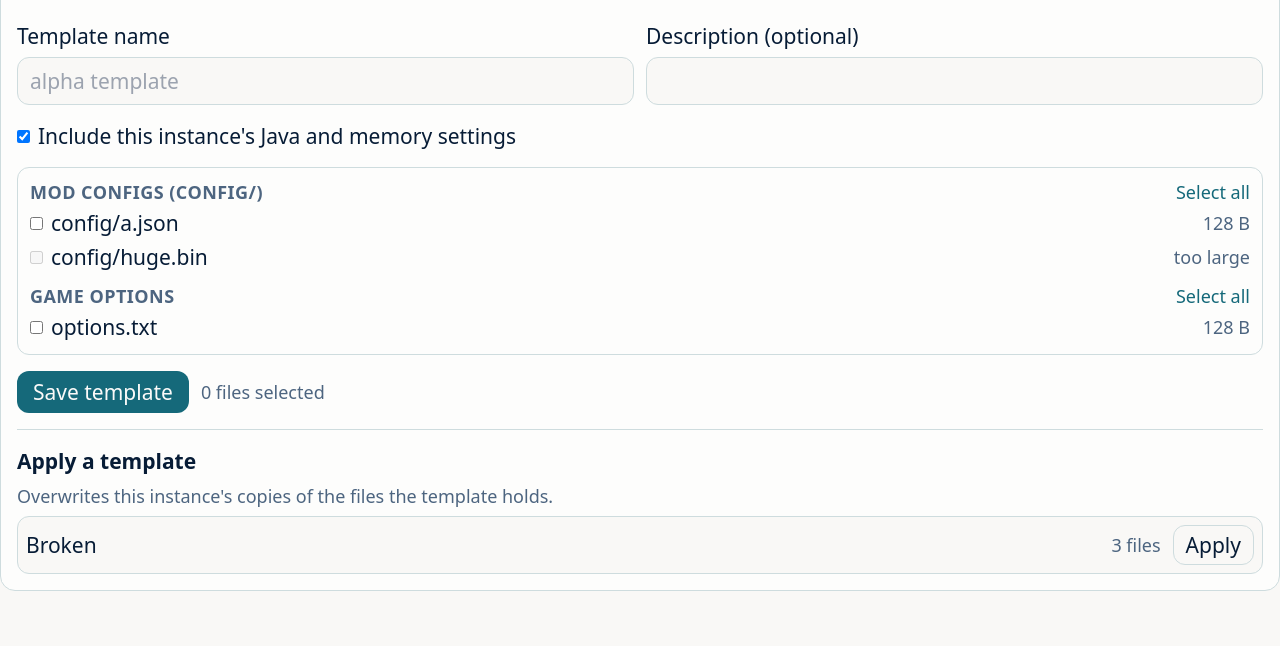
Scenario: InstanceTemplatePanel › says so when a template lists files it no longer has
Click the button "Apply": (1213, 545) [1173,525,1254,565]
(page scrolled)
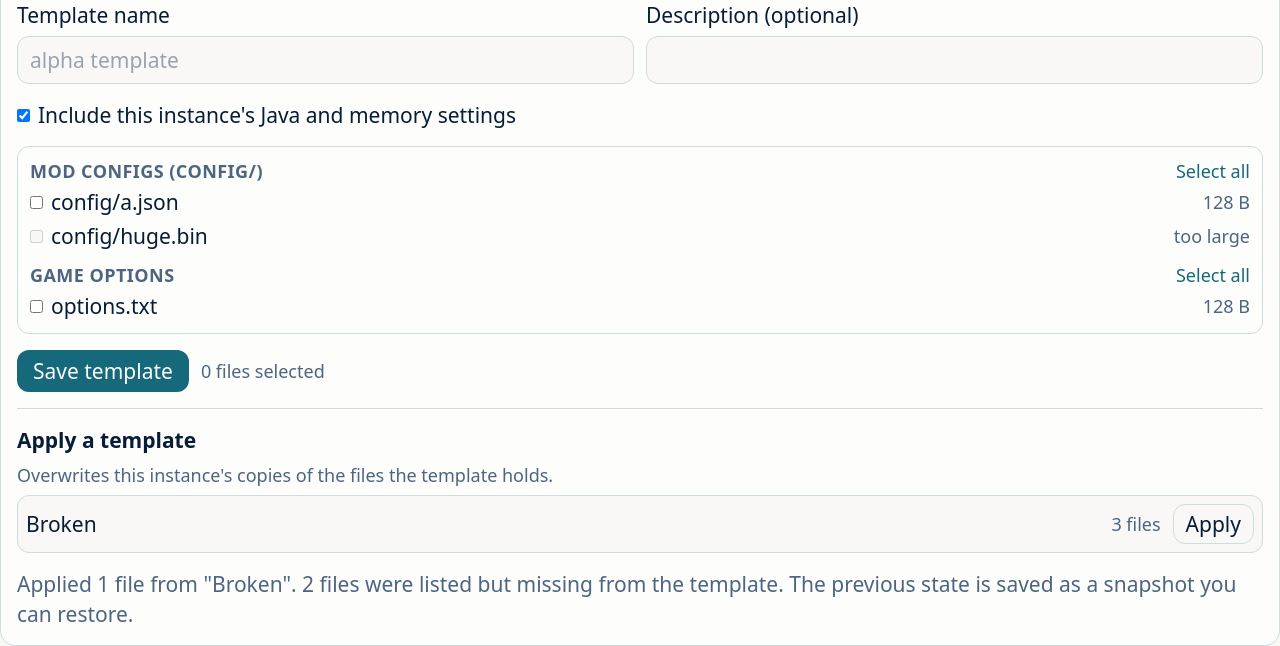
Result: the text "2 files were listed but missing from the template." is shown at [17,570,1236,628]
